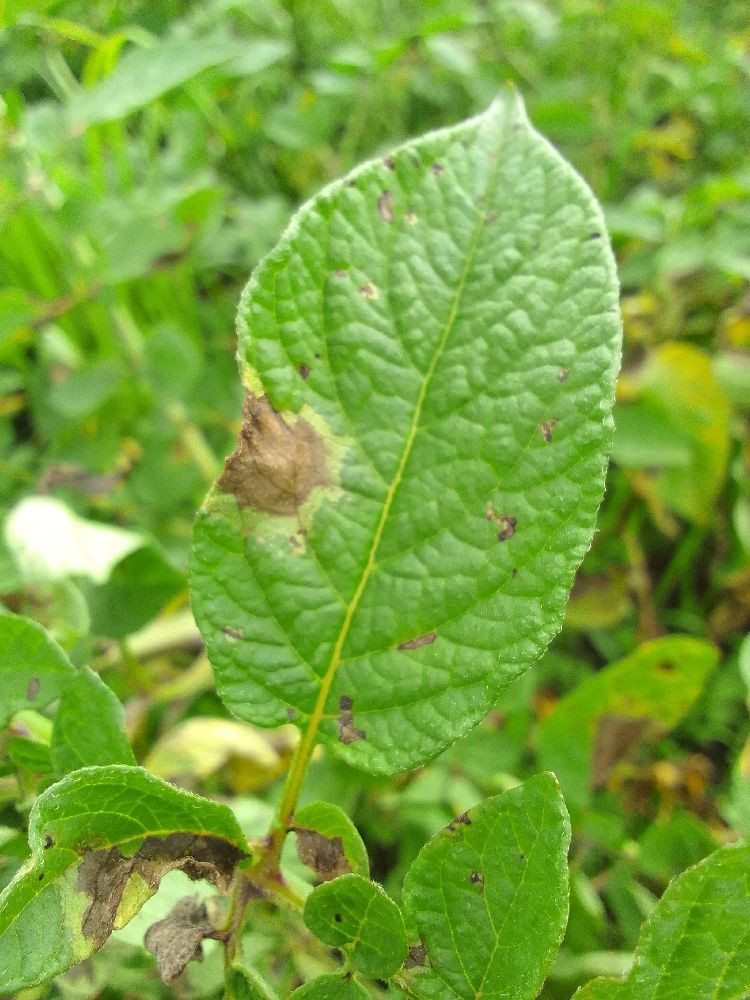late_blight: (61, 793, 366, 999), (574, 699, 750, 857), (203, 374, 345, 532), (672, 472, 750, 682)
